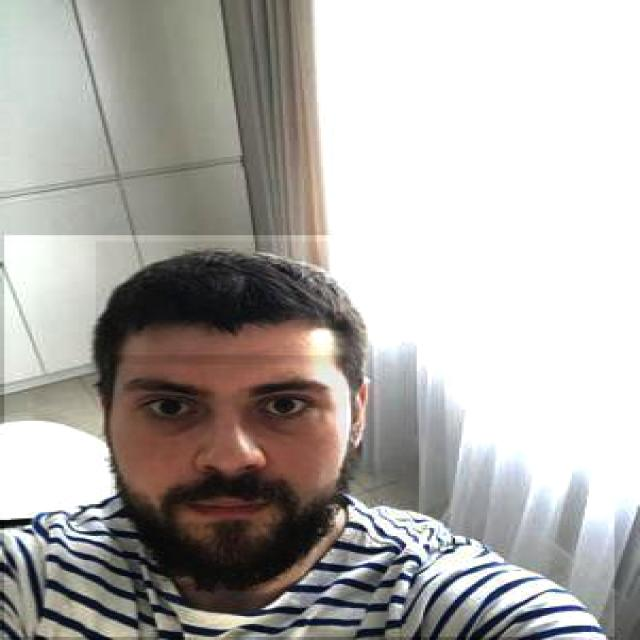face_nomask: (108, 355, 346, 592)
head_nohelmet: (96, 242, 351, 364)
person: (2, 236, 615, 638)
